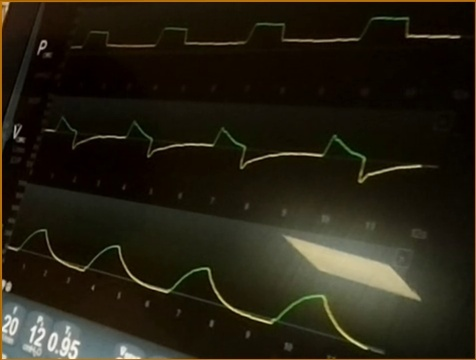Normal Flow: (45, 108, 426, 187)
Normal Volume: (8, 223, 366, 346)
